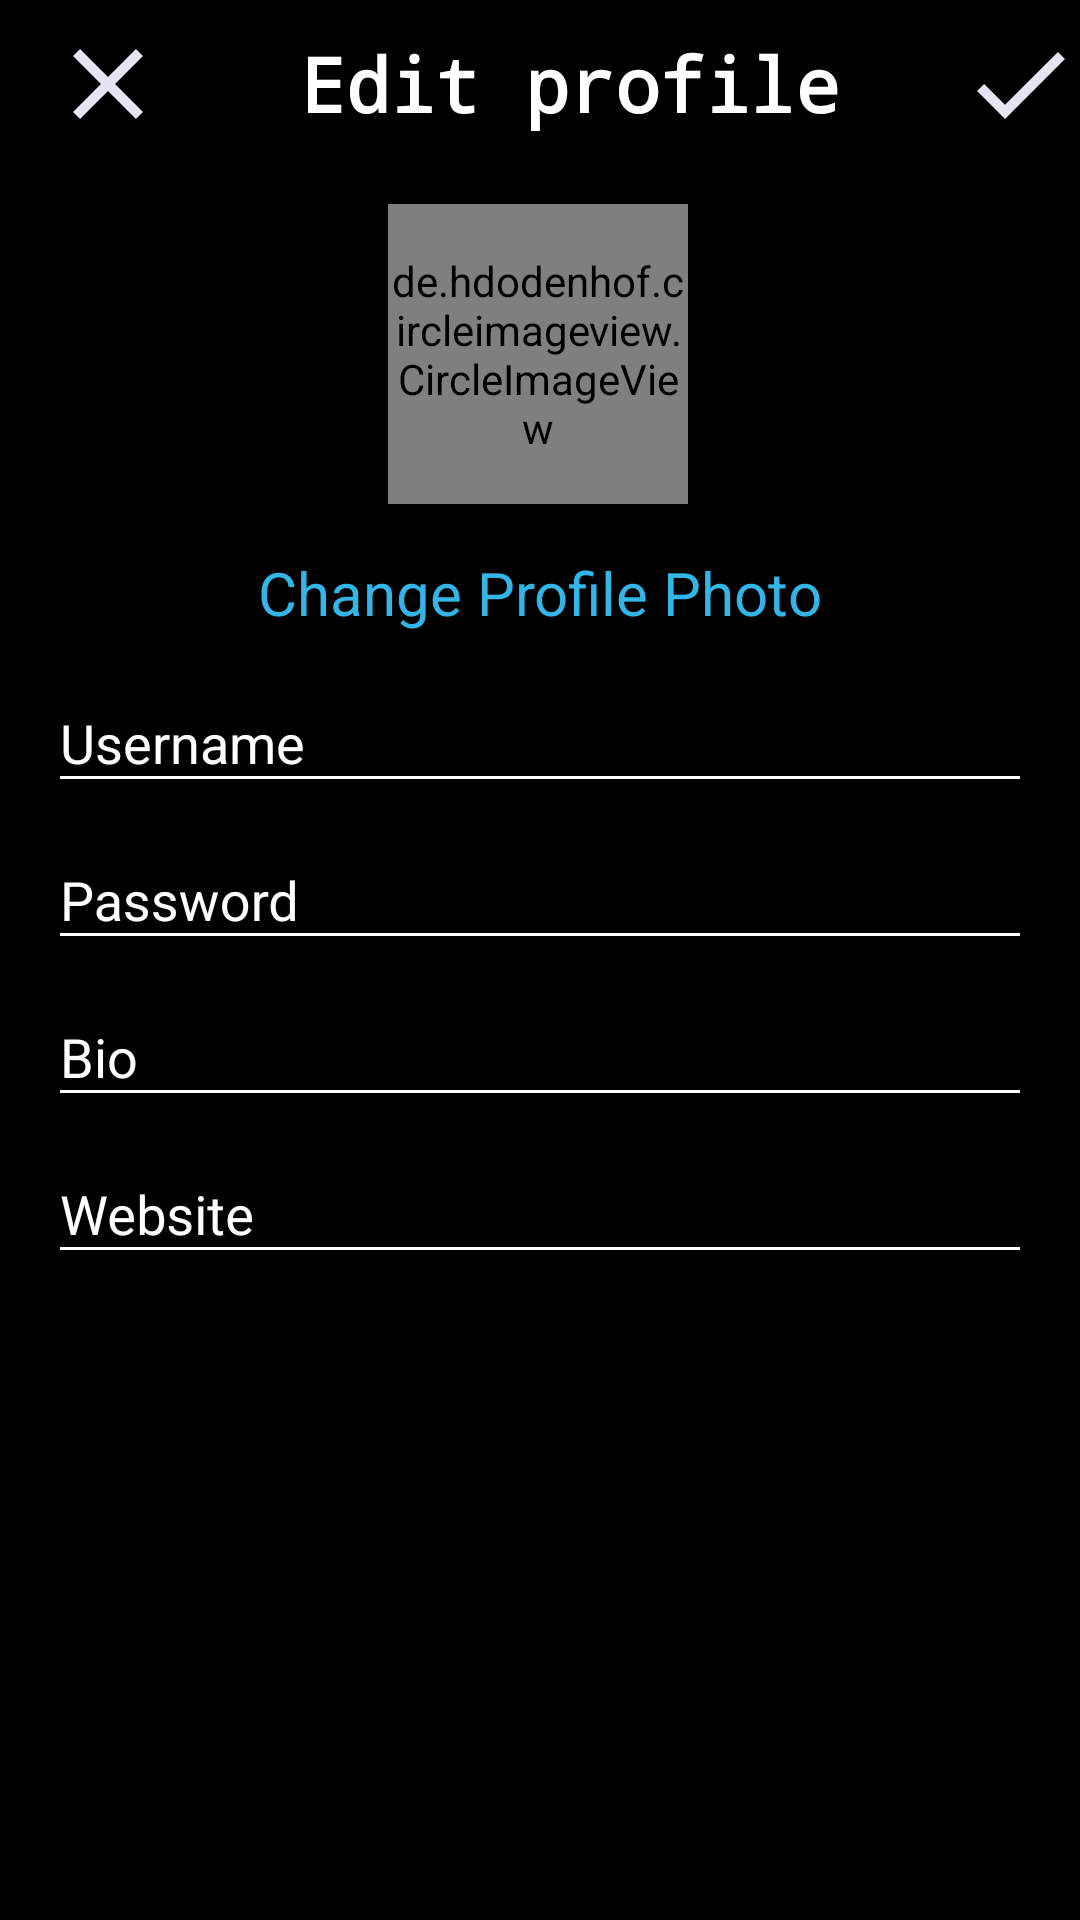

Screen size 1080 x 1920. Icon name, then its center in pixels as (x,y):
check: (1021,85)
close: (108,84)
